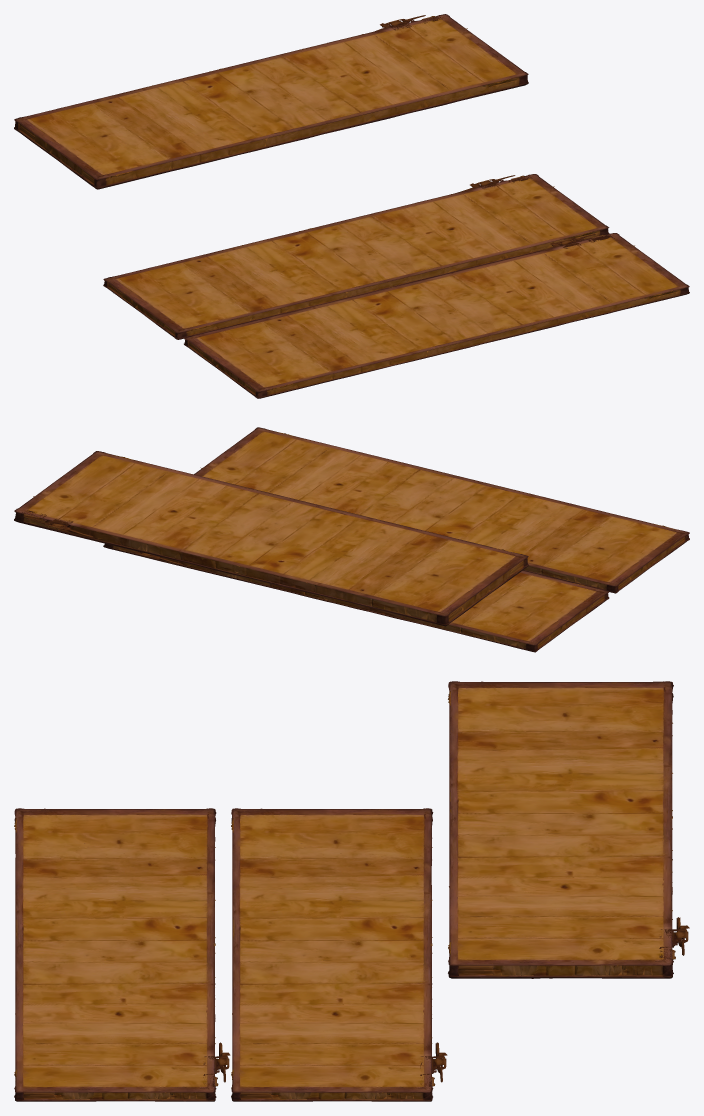
File: theatre_surfaces.glb
3 views of the same model, one above another, from view 1: azimuth 30°, elevation 25°; view 2: azimuth 150°, elevation 25°; view 3: azimuth 270°, elevation 25° (orthographic). The views are drawn at different scales.
Parts seen in each view (by area): view 1: tripo_node_988384b4-4b60-4d09-9f6d-7f9265e472a5 (×3); view 2: tripo_node_988384b4-4b60-4d09-9f6d-7f9265e472a5 (×3); view 3: tripo_node_988384b4-4b60-4d09-9f6d-7f9265e472a5 (×3).
Boxes of the visible parts, x1=… form: tripo_node_988384b4-4b60-4d09-9f6d-7f9265e472a5 (×3): x1=14, y1=14, x2=689, y2=398; tripo_node_988384b4-4b60-4d09-9f6d-7f9265e472a5 (×3): x1=14, y1=427, x2=689, y2=652; tripo_node_988384b4-4b60-4d09-9f6d-7f9265e472a5 (×3): x1=14, y1=681, x2=689, y2=1101.
Size of the model in its own units: 1.7 by 0.38 by 1.7.
1 material, 1 textured.
